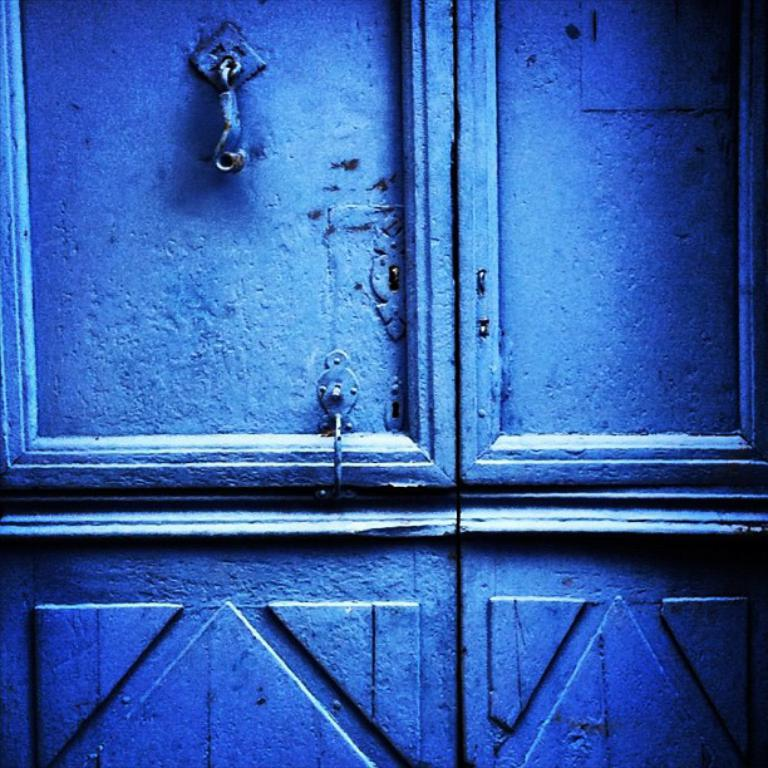door: (7, 19, 446, 743), (471, 38, 765, 768)
